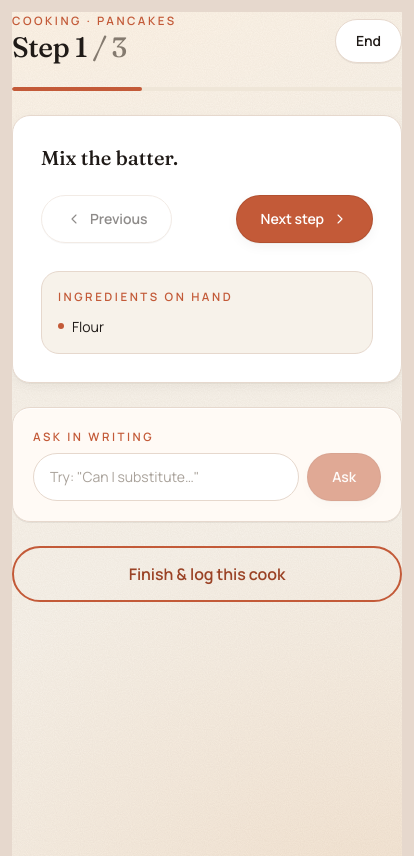
CookRecipePage › navigates between steps
Check: the text "Mix the batter." is shown, box [41,145,178,170]
Step 1. Click the button "Next step" → (304,219), box [236,195,373,243]
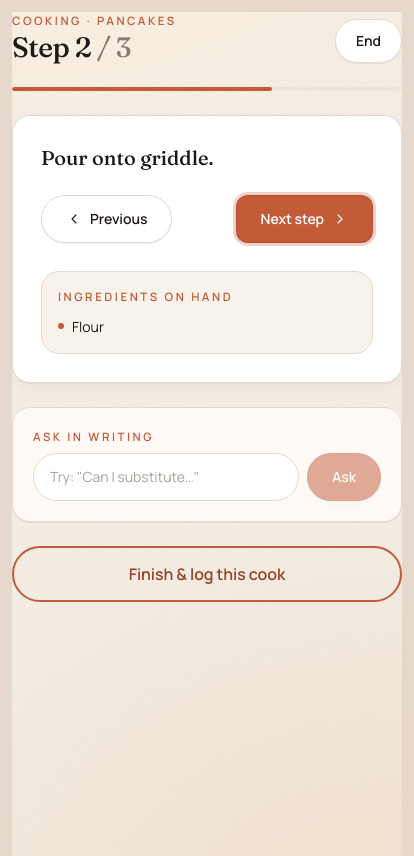
Check: the text "Pour onto griddle." is shown, box [41,145,214,170]
Step 2. Click the button "Previous" → (107,219), box [41,195,172,243]
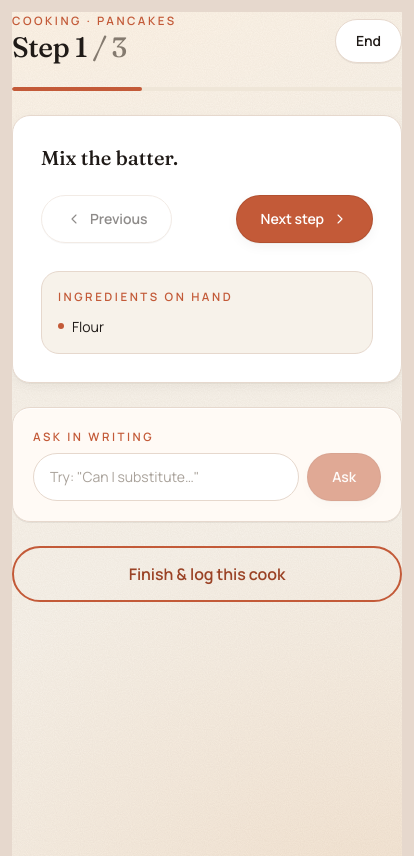
Check: the text "Mix the batter." is shown, box [41,145,178,170]
